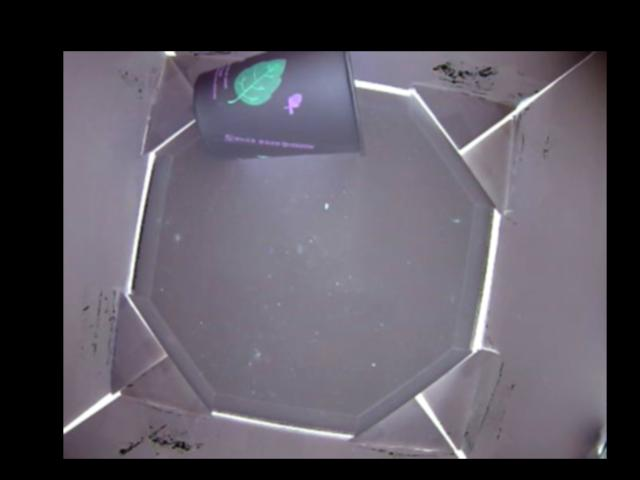Cup: (191, 52, 364, 159)
